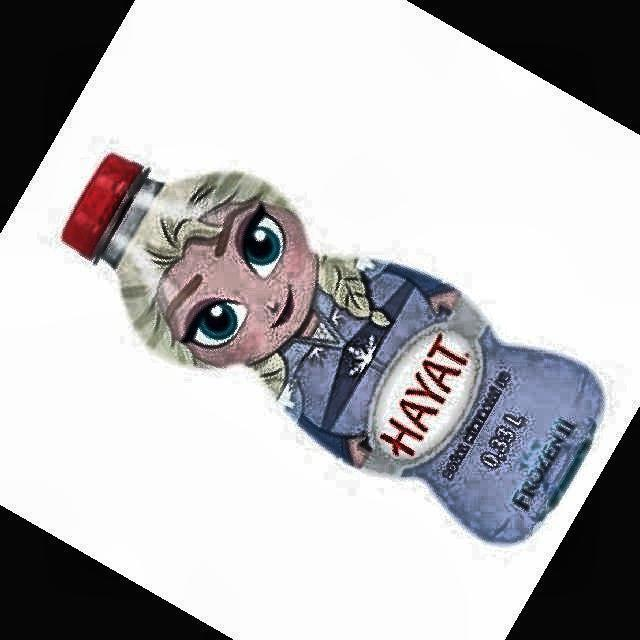plastic: (62, 154, 604, 543)
